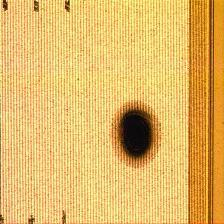PO CONTAMINATION: (104, 97, 171, 174)
